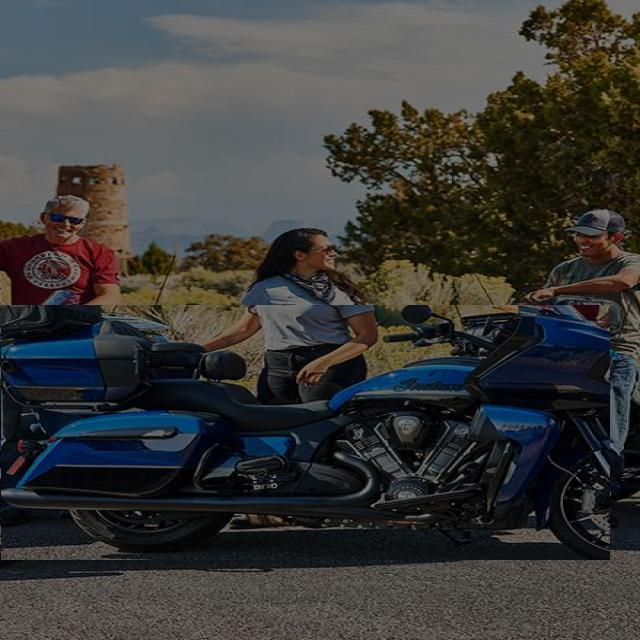motorcycle: (1, 306, 610, 560)
